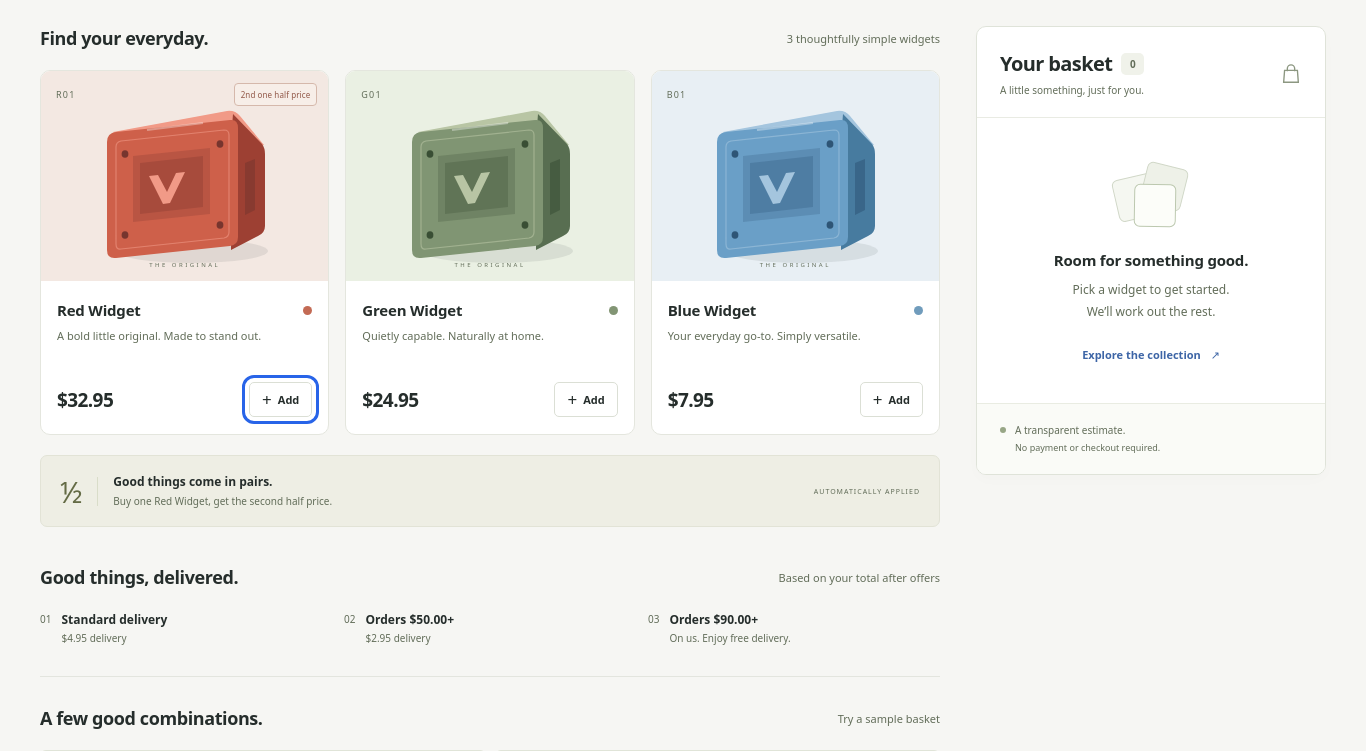
it: storefront › adds widgets with the keyboard and shows authoritative pricing
(page scrolled)
Expected: the heading "Find your everyday." is shown, [40,26,208,50]
Press Enter
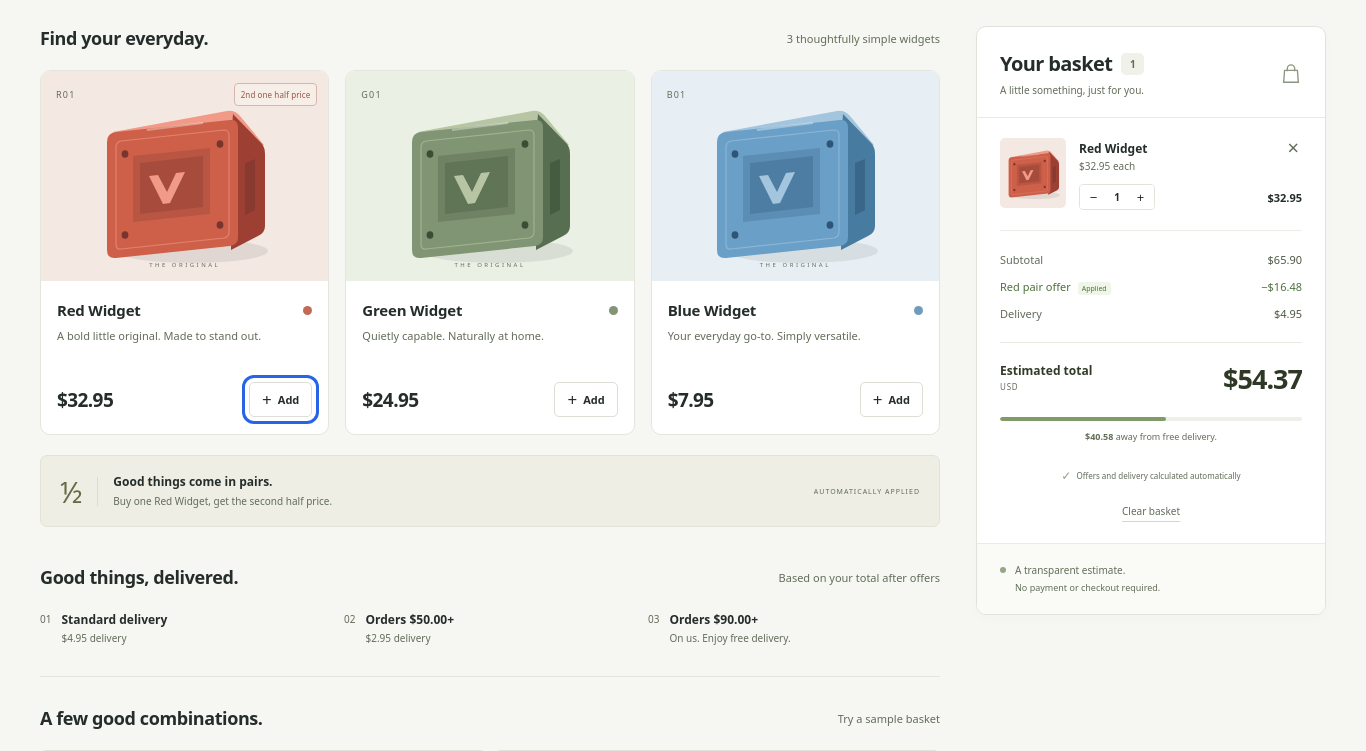
Click the button named "Increase Red Widget quantity" at {"x": 1140, "y": 197}, box [1127,184,1154,210]
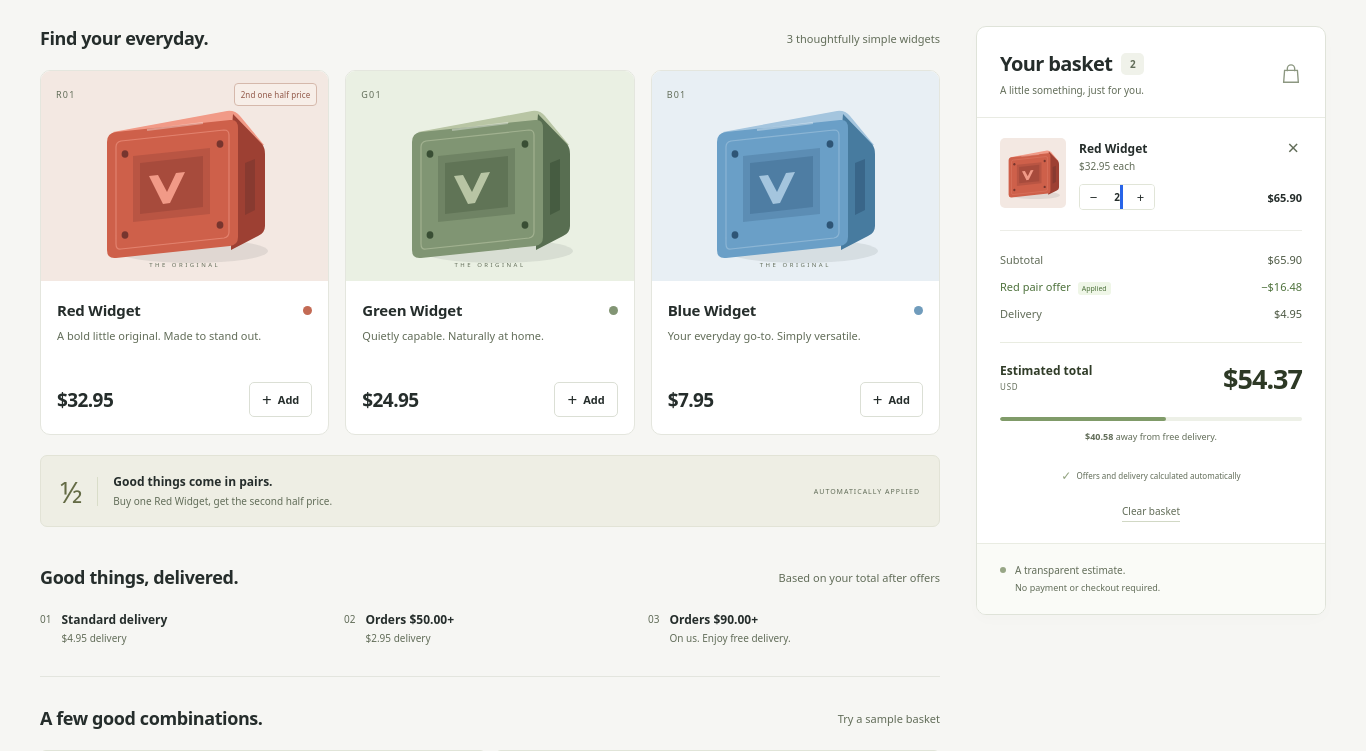
Now the text with test id "quote-total" reads "$54.37", box [1223,360,1302,397]
Now the text "−$16.48" is shown, box [1261,279,1302,294]
Now the text named "Red Widget quantity" reads "2", box [1114,190,1120,204]
